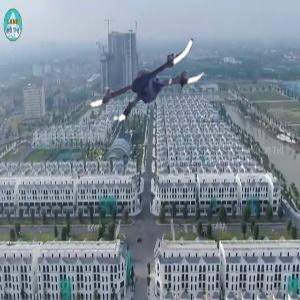drone: (86, 15, 206, 135)
